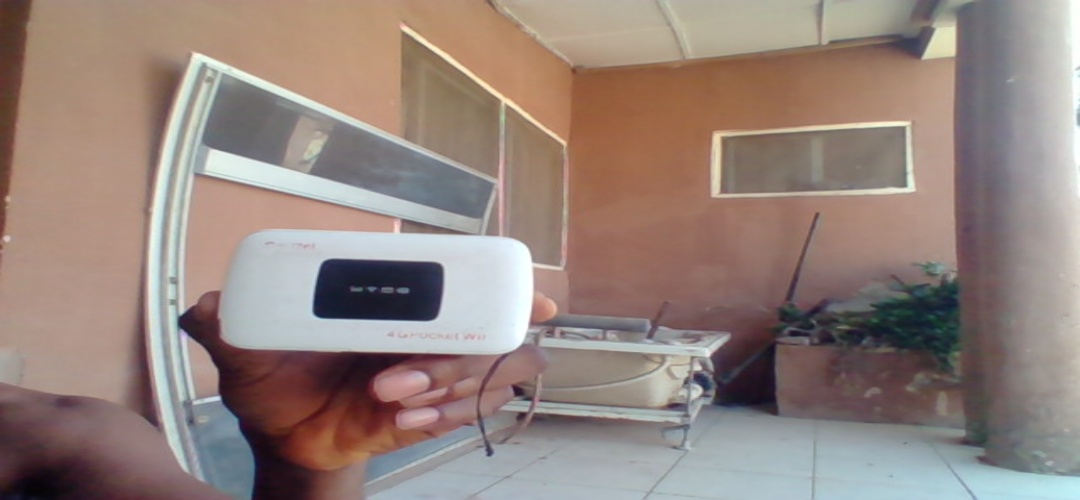mifi: (217, 226, 533, 360)
